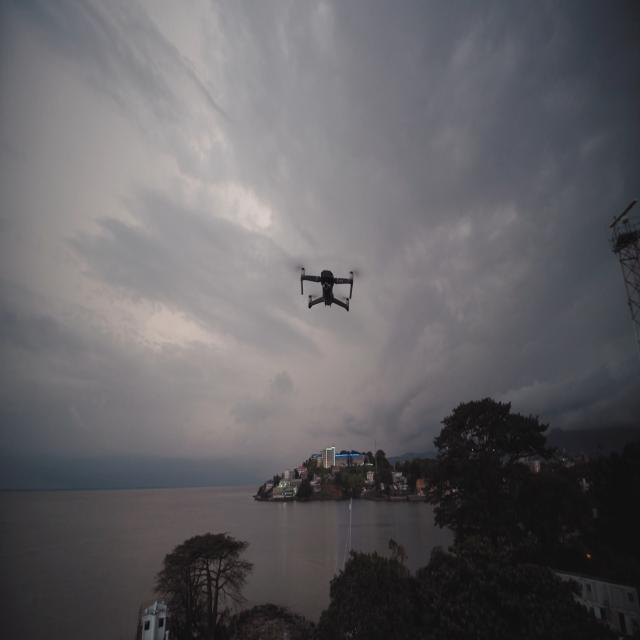drone: (300, 266, 354, 313)
